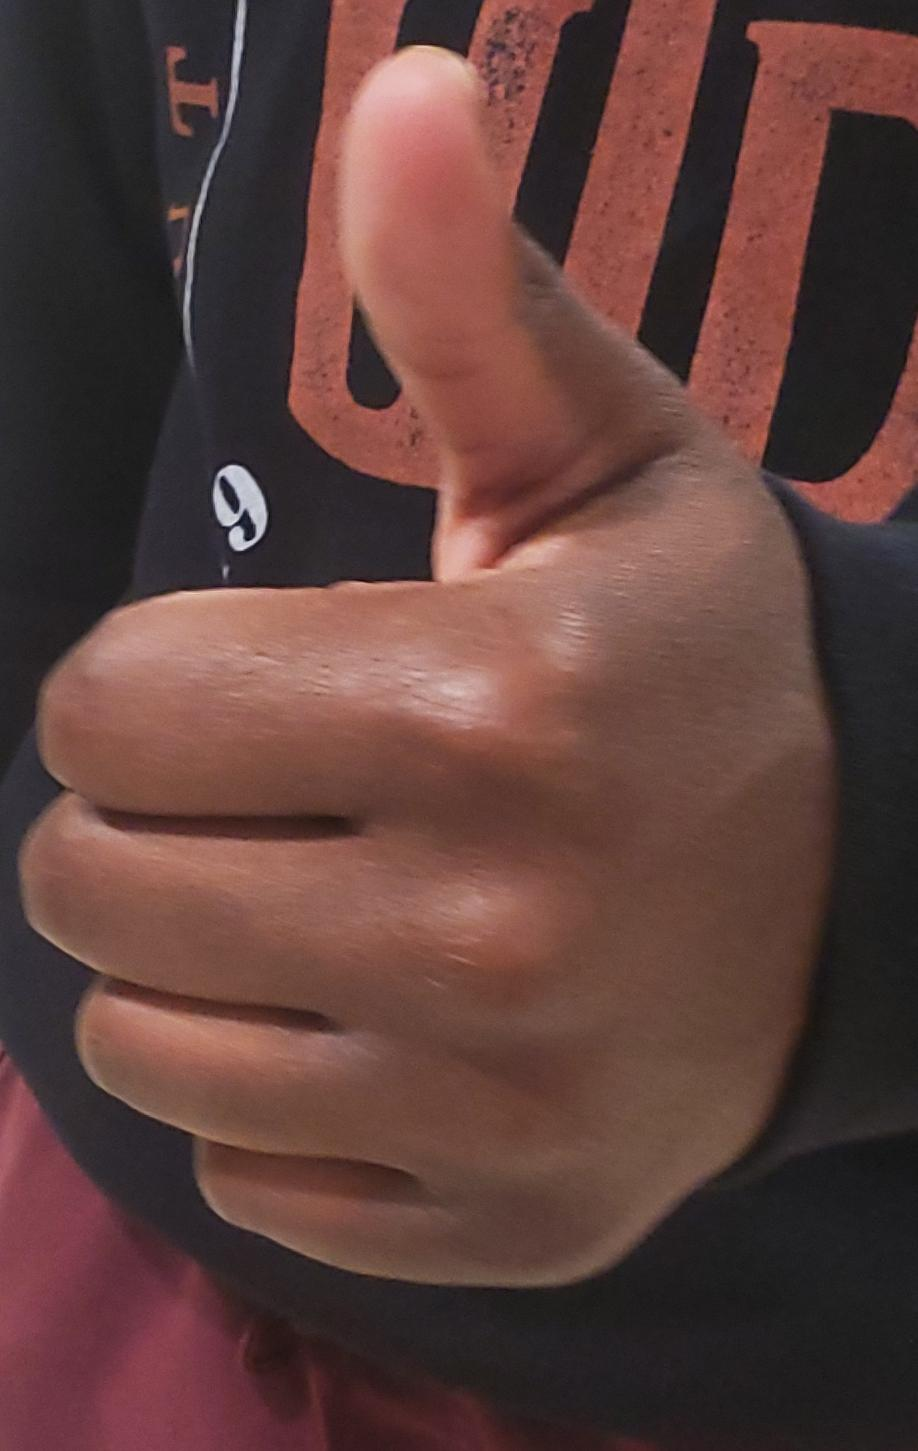up: (0, 1, 918, 1451)
